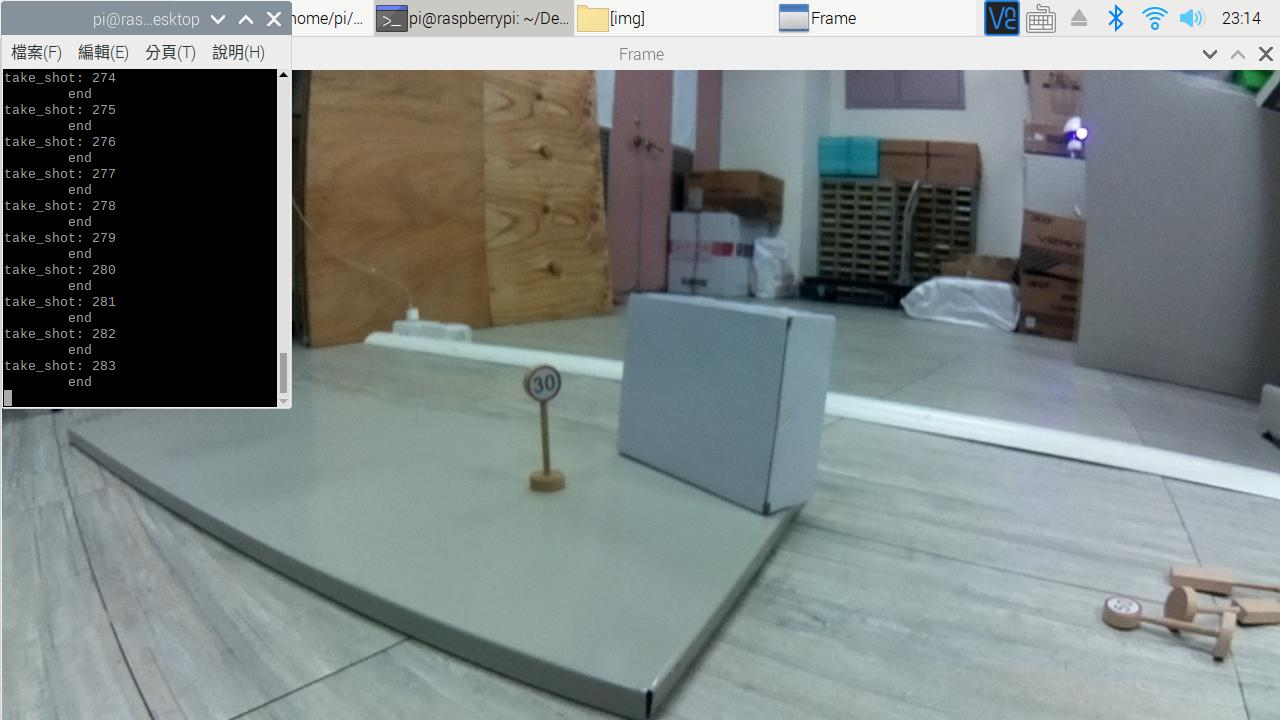Speed30: (511, 355, 583, 422)
